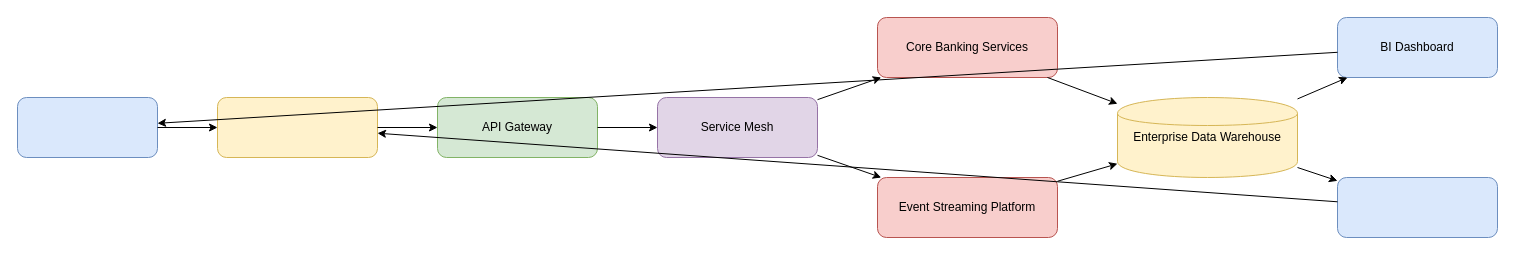
Image size: 1515x255. Some labels were removed from this diagram. The centre of each missing label's shape, as x and y in pixels:
AI Recommendation Engine: point 1417,207
Business User: point 87,127
CRM System: point 297,127
